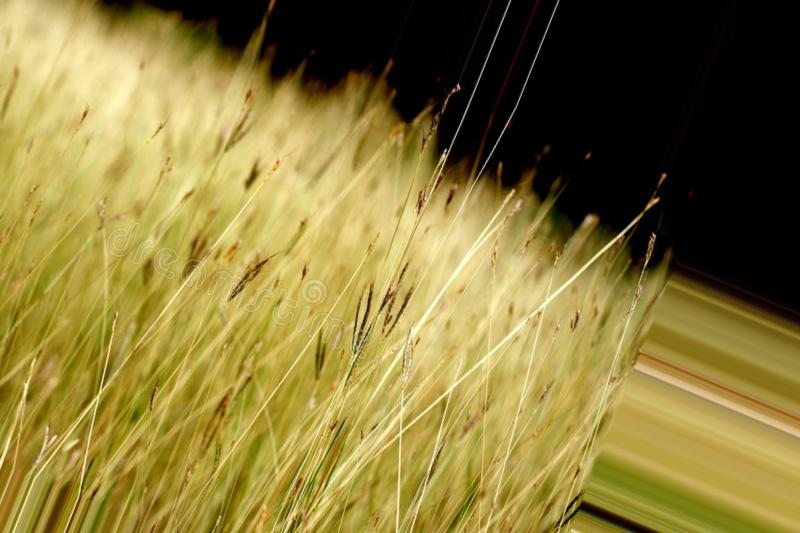patch: (8, 10, 589, 533)
